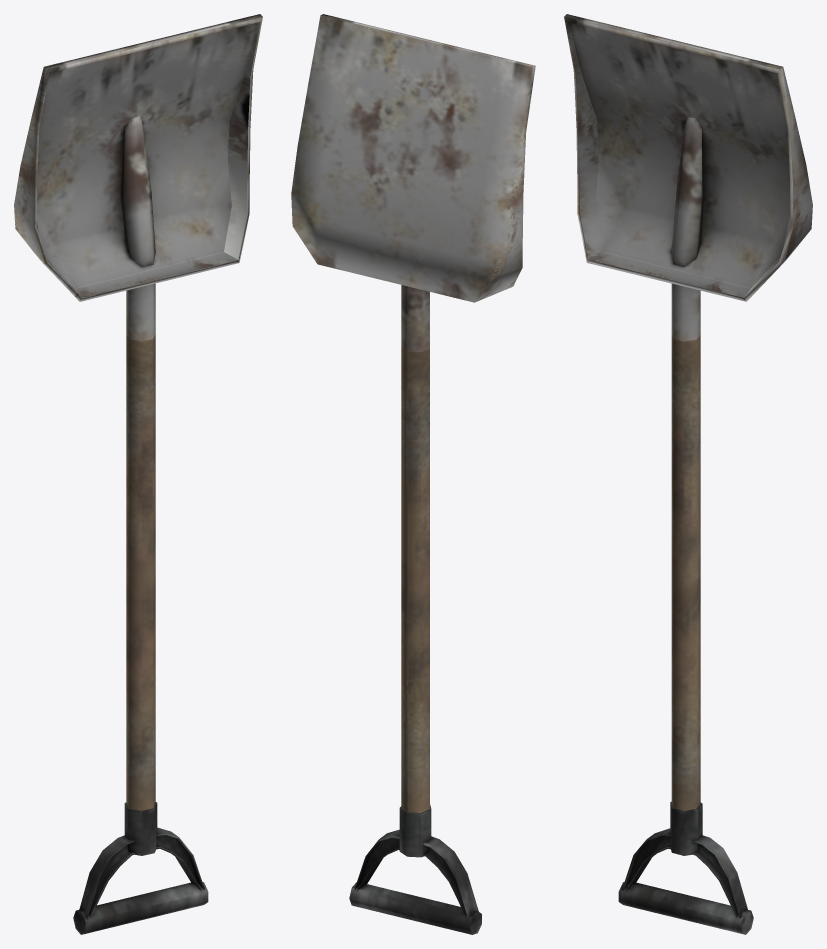
File: shovel2.obj
3 views of the same model, side by side, from view 1: azimuth 30°, elevation 25°; view 2: azimuth 150°, elevation 25°; view 3: azimuth 330°, elevation 25° (orthographic).
Parts seen in each view (by area): view 1: TurtleDefaultBakeLayer_polySurface3; view 2: TurtleDefaultBakeLayer_polySurface3; view 3: TurtleDefaultBakeLayer_polySurface3.
Boxes of the visible parts, bbox=[...] form: TurtleDefaultBakeLayer_polySurface3: bbox=[14, 14, 262, 934]; TurtleDefaultBakeLayer_polySurface3: bbox=[291, 14, 535, 934]; TurtleDefaultBakeLayer_polySurface3: bbox=[564, 14, 812, 934].
Size of the model in its own units: 0.3504 by 1.37 by 0.1195.
Materials: 1 (1 with a texture image).
